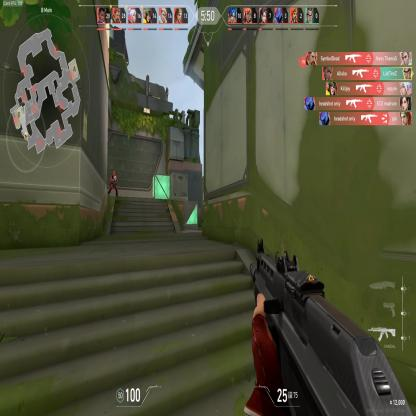enemy: (107, 169, 118, 197)
